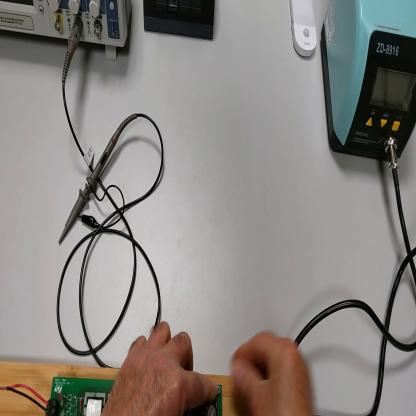hand: (105, 323, 216, 414), (228, 330, 317, 416)
high voltage board: (1, 377, 224, 416)
oscilloscope: (1, 1, 134, 59)
oscilloscope probe tip: (61, 122, 123, 249)
welder station: (318, 1, 416, 168)
working area: (1, 363, 229, 416)
